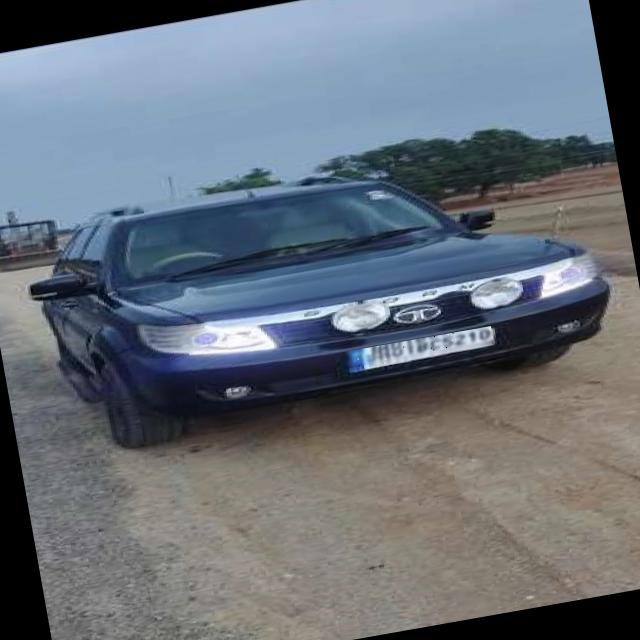Plate: (342, 327, 495, 371)
